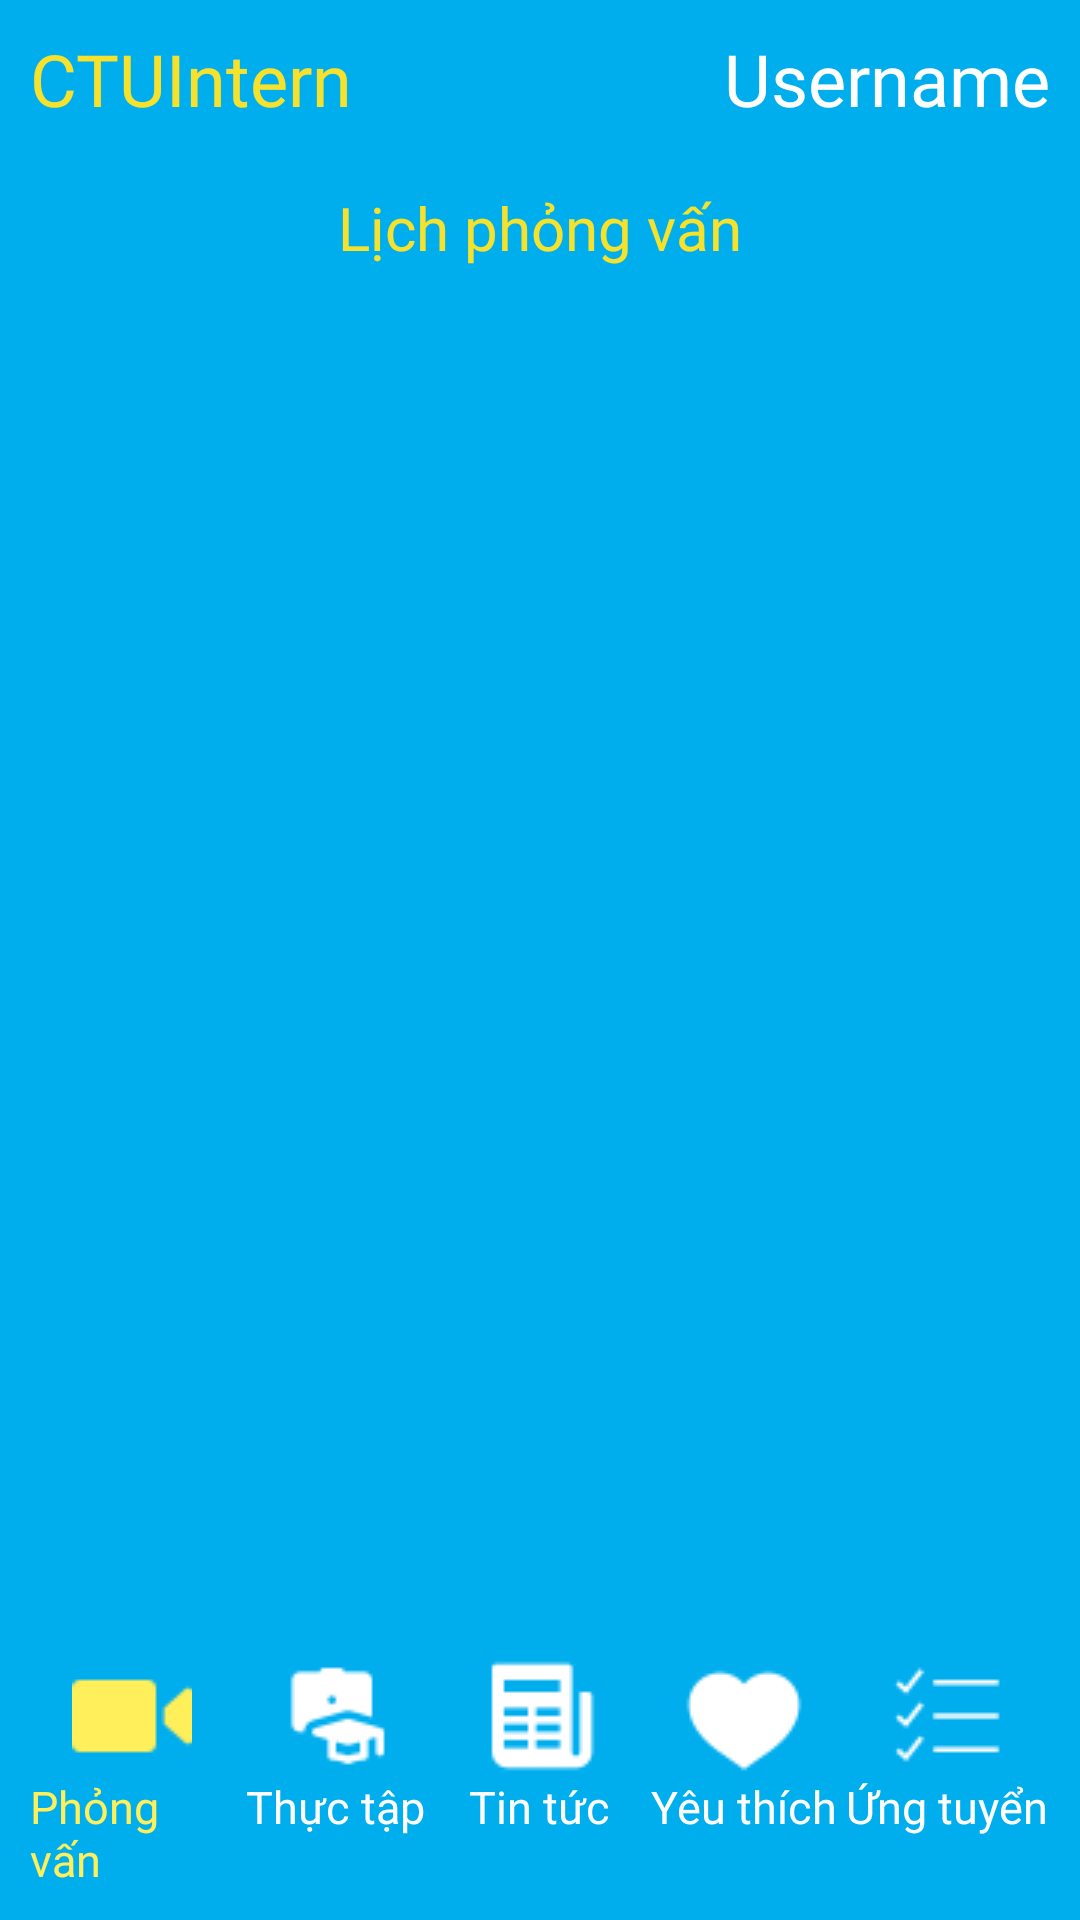

Icons on this 1080×1920 Android screen, each with its box as (x1, y1, x2, y2):
heart: (686, 1670, 802, 1771)
video: (72, 1679, 192, 1753)
